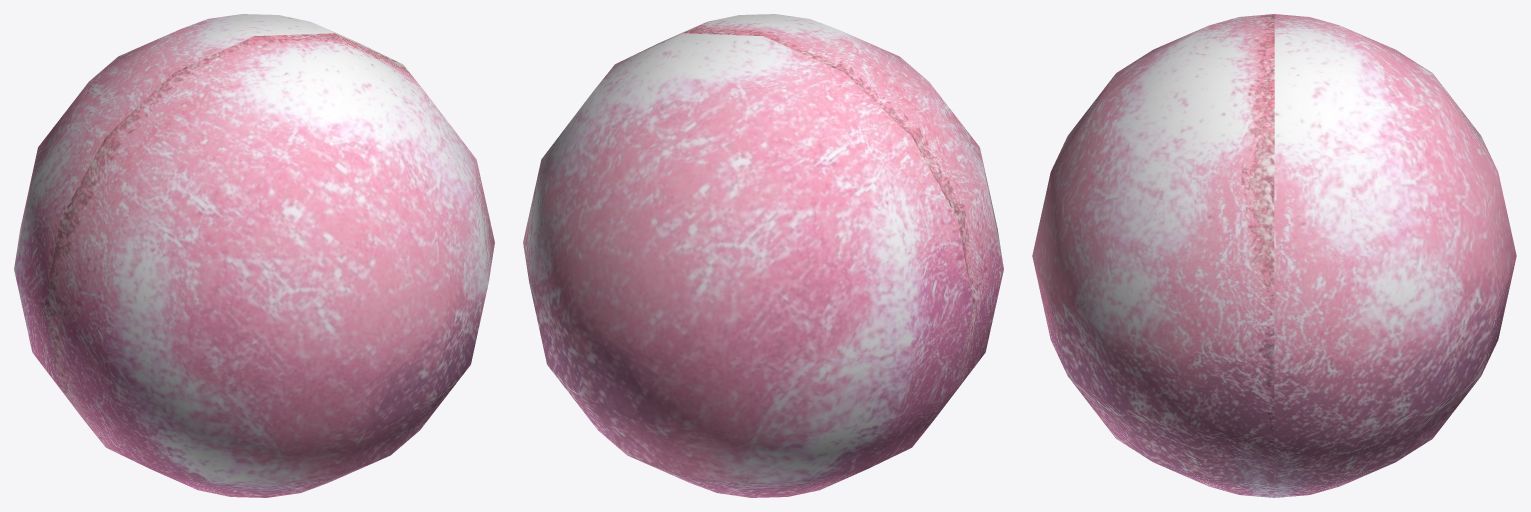
Rendered from algodon.obj.
3 renders of one model, left to right at view 1: azimuth 30°, elevation 25°; view 2: azimuth 150°, elevation 25°; view 3: azimuth 270°, elevation 25°, orthographic.
Parts seen in each view (by area): view 1: esfera; view 2: esfera; view 3: esfera.
Part boxes in pixels (x1=…): esfera: x1=14, y1=14, x2=494, y2=497; esfera: x1=523, y1=14, x2=1003, y2=497; esfera: x1=1032, y1=14, x2=1516, y2=497.
Size of the model in its own units: 15.65 by 15.65 by 15.65.
1 material, 1 textured.
